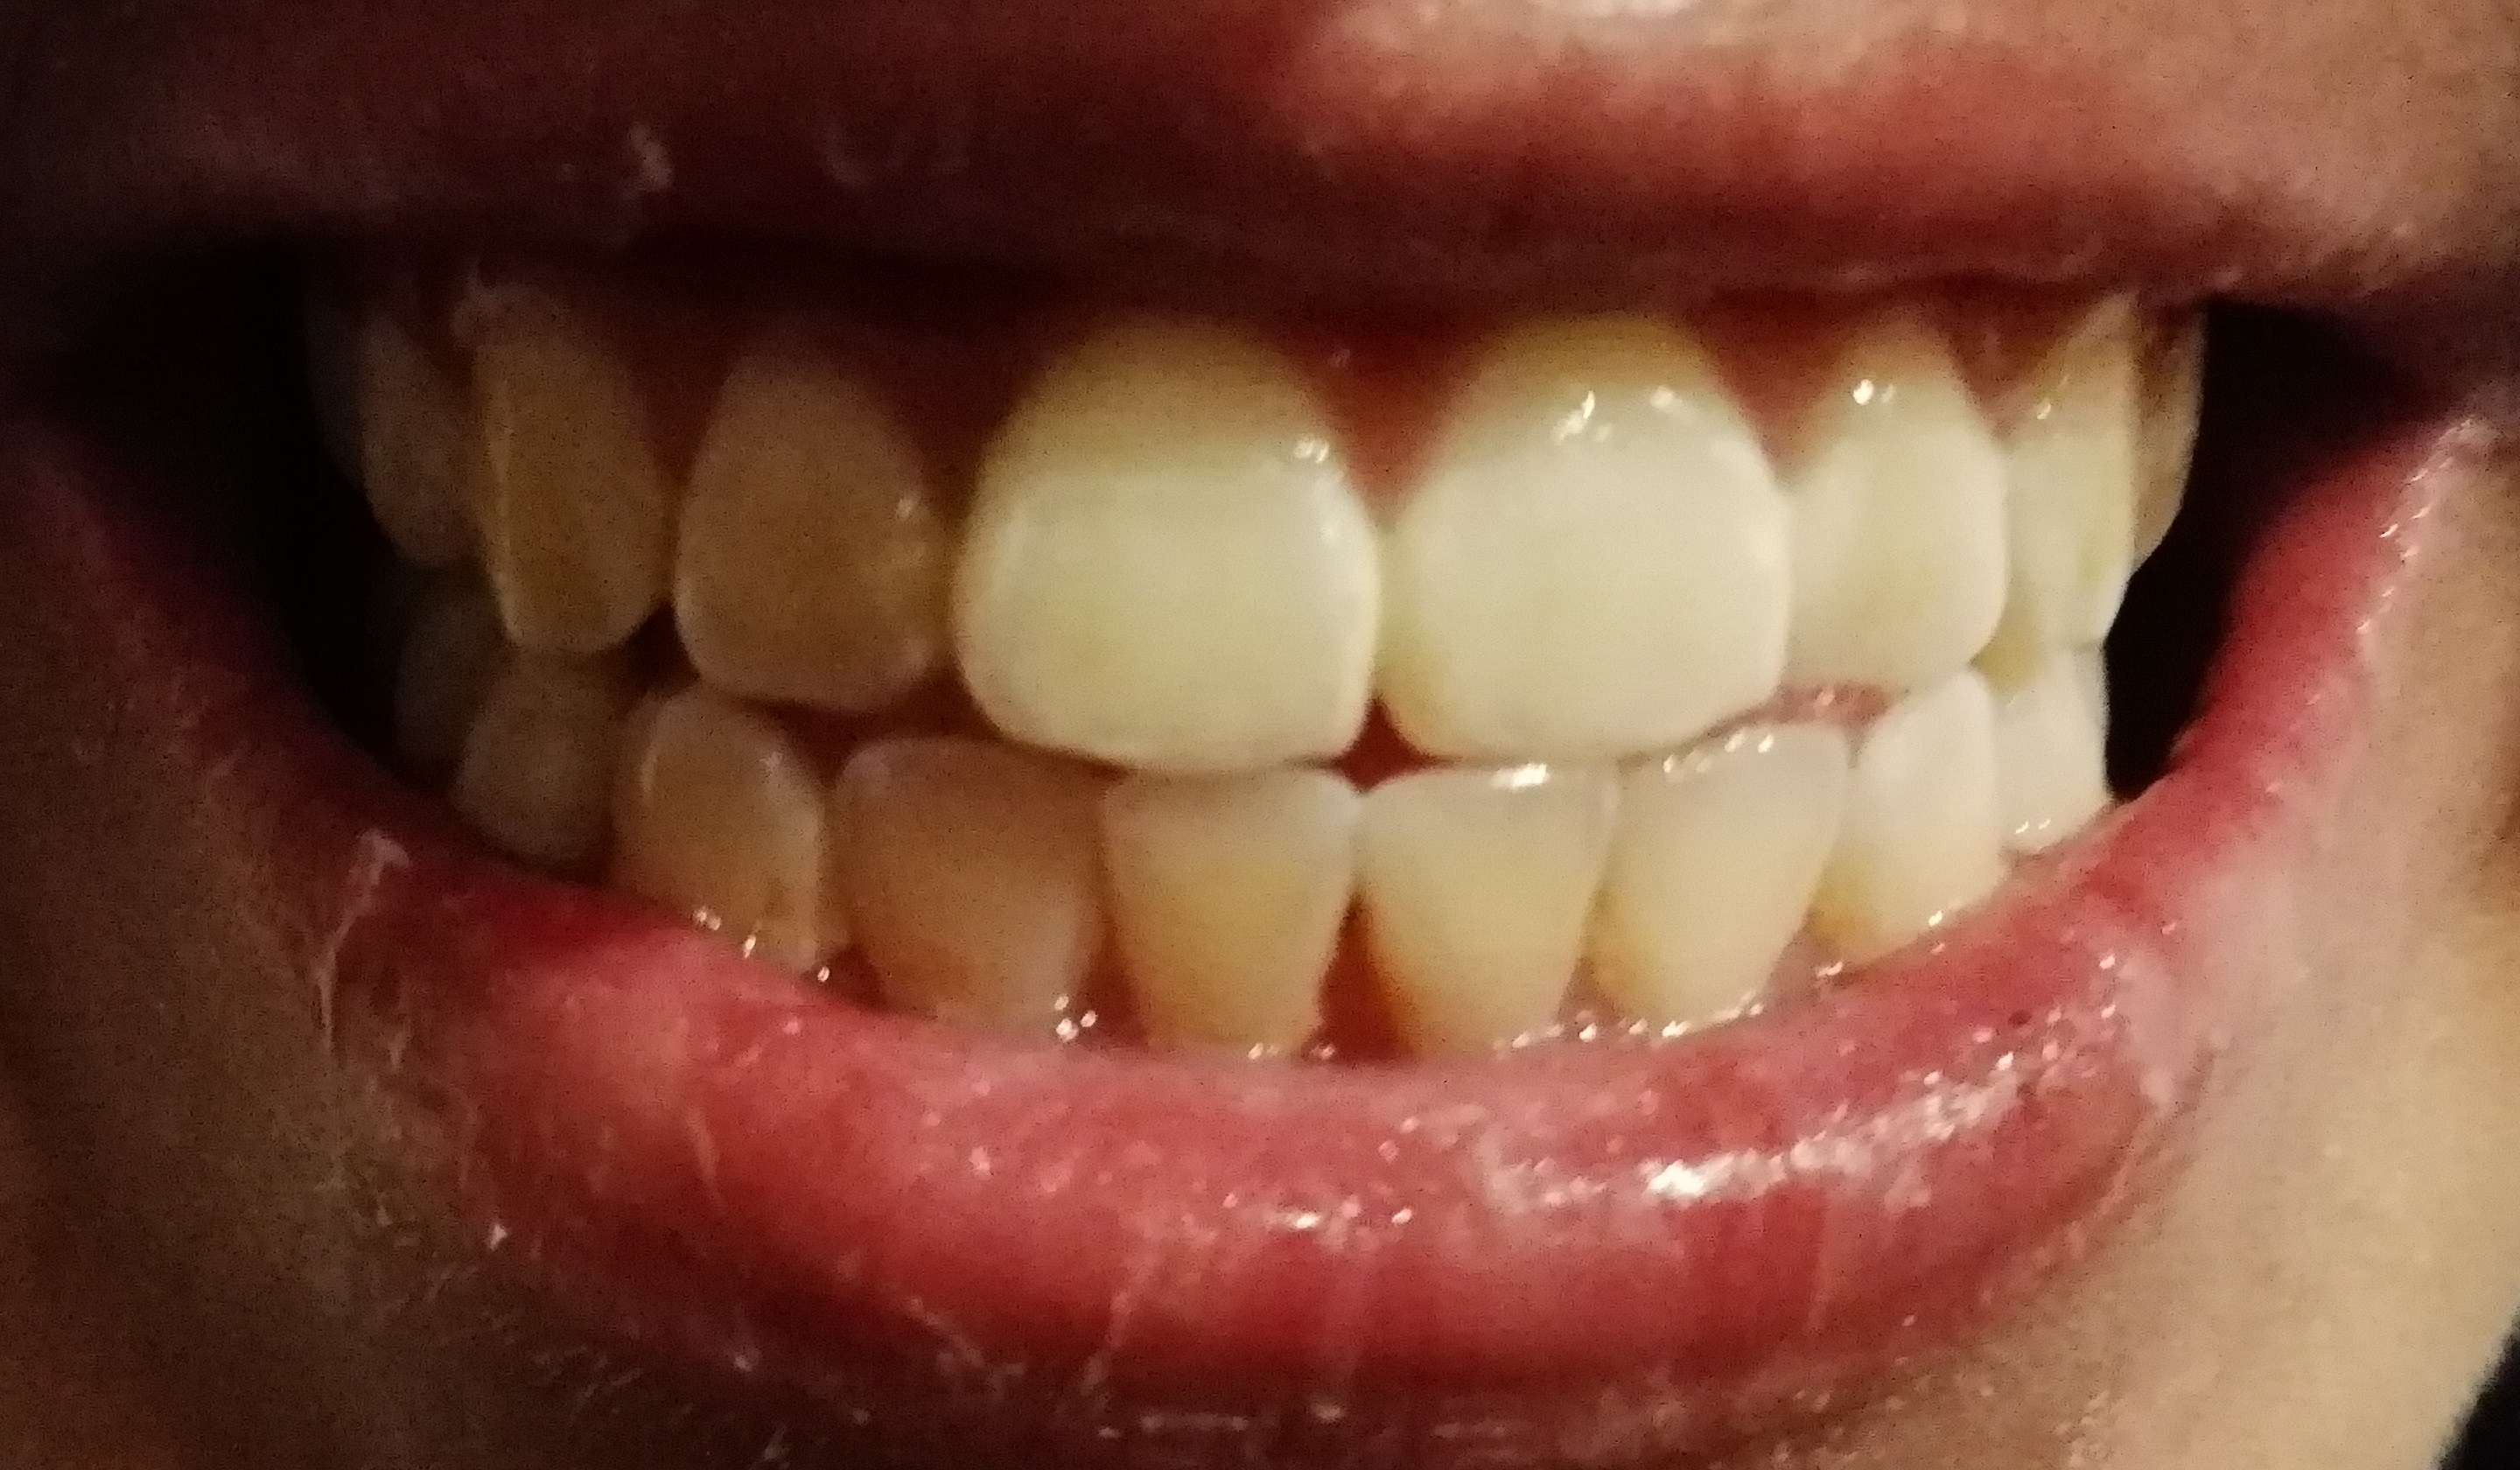boca: (325, 280, 2226, 1062)
